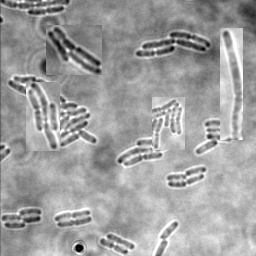Dividing: (220, 28, 243, 140), (167, 175, 204, 189), (99, 238, 128, 255), (54, 209, 90, 222), (56, 217, 92, 228), (27, 7, 64, 17)
Microcolony: (7, 76, 98, 147), (46, 25, 102, 75), (26, 82, 60, 151), (117, 137, 180, 168), (135, 32, 211, 57), (152, 97, 185, 150), (195, 120, 238, 155), (1, 208, 42, 229)
Rod: (106, 233, 135, 251), (157, 222, 178, 240), (184, 167, 206, 177), (166, 174, 187, 183)
